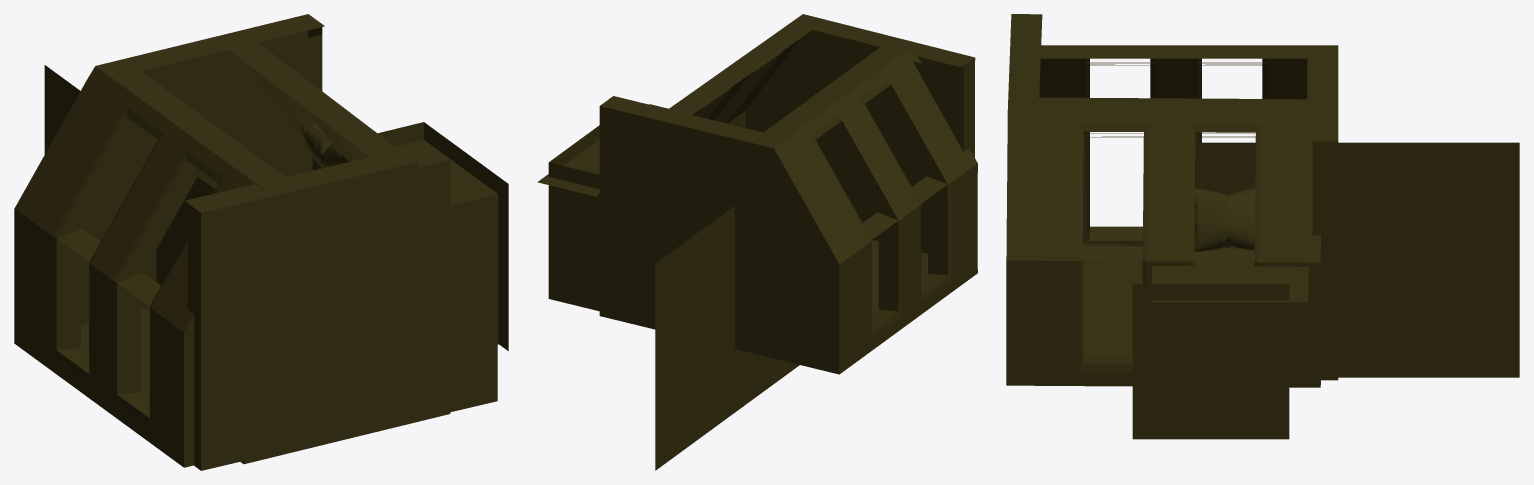
Rendered from walls-R1nps6iz.glb.
The picture shows the model from 3 angles, left to right: view 1: azimuth 30°, elevation 25°; view 2: azimuth 150°, elevation 25°; view 3: azimuth 270°, elevation 25°; orthographic projection. The views are drawn at different scales.
Parts seen in each view (by area): view 1: StudyShelf_1558; view 2: StudyShelf_1558; view 3: StudyShelf_1558.
Part boxes in pixels (x1,y1,x2,y2): StudyShelf_1558: (14,14,508,470); StudyShelf_1558: (537,14,977,470); StudyShelf_1558: (1006,14,1519,439).
Bounding box in the file's own units: 1250 × 1037 × 1550.
